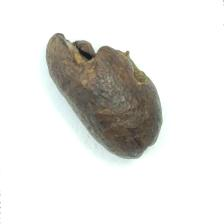NG: (57, 33, 152, 88)
